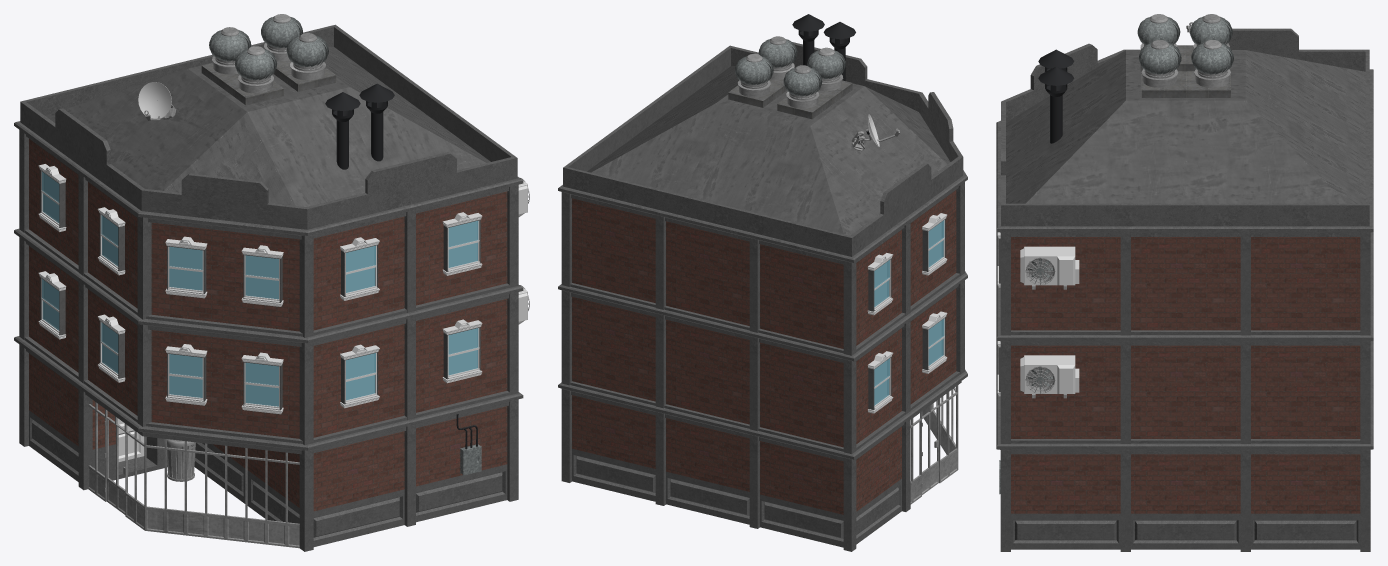
The model's file is Building_Small_DownTown8.obj.
The picture shows the model from 3 angles, left to right: view 1: azimuth 30°, elevation 25°; view 2: azimuth 150°, elevation 25°; view 3: azimuth 270°, elevation 25°; orthographic projection. The views are drawn at different scales.
Parts seen in each view (by area): view 1: Building_Small_DownTown8_Building_Small_DownTown8_Mesh_CementSmo, Building_Small_DownTown8_Building_Small_DownTown8_Mesh_BrownBric, Building_Small_DownTown8_Building_Small_DownTown8_Mesh_MetalPane, Building_Small_DownTown8_Building_Small_DownTown8_Mesh_EpoxyBloc, Building_Small_DownTown8_Building_Small_DownTown8_Mesh_Glass, Building_Small_DownTown8_Building_Small_DownTown8_Mesh_MetalSmoo, Building_Small_DownTown8_Building_Small_DownTown8_Mesh_MetalGava, Building_Small_DownTown8_Building_Small_DownTown8_Mesh_MetalPain, Building_Small_DownTown8_Building_Small_DownTown8_Mesh_CementPan; view 2: Building_Small_DownTown8_Building_Small_DownTown8_Mesh_BrownBric, Building_Small_DownTown8_Building_Small_DownTown8_Mesh_CementSmo, Building_Small_DownTown8_Building_Small_DownTown8_Mesh_MetalPane, Building_Small_DownTown8_Building_Small_DownTown8_Mesh_MetalSmoo, Building_Small_DownTown8_Building_Small_DownTown8_Mesh_EpoxyBloc, Building_Small_DownTown8_Building_Small_DownTown8_Mesh_MetalGava, Building_Small_DownTown8_Building_Small_DownTown8_Mesh_Glass, Building_Small_DownTown8_Building_Small_DownTown8_Mesh_CementPan, Building_Small_DownTown8_Building_Small_DownTown8_Mesh_MetalPain; view 3: Building_Small_DownTown8_Building_Small_DownTown8_Mesh_BrownBric, Building_Small_DownTown8_Building_Small_DownTown8_Mesh_CementSmo, Building_Small_DownTown8_Building_Small_DownTown8_Mesh_MetalPane, Building_Small_DownTown8_Building_Small_DownTown8_Mesh_MetalGava, Building_Small_DownTown8_Building_Small_DownTown8_Mesh_EpoxyBloc, Building_Small_DownTown8_Building_Small_DownTown8_Mesh_MetalSmoo, Building_Small_DownTown8_Building_Small_DownTown8_Mesh_CementPan, Building_Small_DownTown8_Building_Small_DownTown8_Mesh_MetalPain.
Part boxes in pixels (x1,y1,x2,y2): Building_Small_DownTown8_Building_Small_DownTown8_Mesh_CementSmo: (14, 24, 523, 551); Building_Small_DownTown8_Building_Small_DownTown8_Mesh_BrownBric: (29, 139, 507, 511); Building_Small_DownTown8_Building_Small_DownTown8_Mesh_MetalPane: (45, 46, 490, 206); Building_Small_DownTown8_Building_Small_DownTown8_Mesh_EpoxyBloc: (38, 82, 527, 461); Building_Small_DownTown8_Building_Small_DownTown8_Mesh_Glass: (42, 171, 478, 406); Building_Small_DownTown8_Building_Small_DownTown8_Mesh_MetalSmoo: (88, 14, 529, 548); Building_Small_DownTown8_Building_Small_DownTown8_Mesh_MetalGava: (209, 16, 481, 475); Building_Small_DownTown8_Building_Small_DownTown8_Mesh_MetalPain: (325, 83, 477, 449); Building_Small_DownTown8_Building_Small_DownTown8_Mesh_CementPan: (201, 60, 336, 105); Building_Small_DownTown8_Building_Small_DownTown8_Mesh_BrownBric: (572, 190, 956, 514); Building_Small_DownTown8_Building_Small_DownTown8_Mesh_CementSmo: (558, 41, 967, 551); Building_Small_DownTown8_Building_Small_DownTown8_Mesh_MetalPane: (587, 66, 950, 235); Building_Small_DownTown8_Building_Small_DownTown8_Mesh_MetalSmoo: (737, 36, 958, 504); Building_Small_DownTown8_Building_Small_DownTown8_Mesh_EpoxyBloc: (867, 114, 947, 413); Building_Small_DownTown8_Building_Small_DownTown8_Mesh_MetalGava: (735, 39, 845, 96); Building_Small_DownTown8_Building_Small_DownTown8_Mesh_Glass: (874, 220, 944, 405); Building_Small_DownTown8_Building_Small_DownTown8_Mesh_CementPan: (728, 79, 852, 119); Building_Small_DownTown8_Building_Small_DownTown8_Mesh_MetalPain: (792, 14, 869, 143); Building_Small_DownTown8_Building_Small_DownTown8_Mesh_BrownBric: (1011, 237, 1360, 513); Building_Small_DownTown8_Building_Small_DownTown8_Mesh_CementSmo: (996, 28, 1373, 551); Building_Small_DownTown8_Building_Small_DownTown8_Mesh_MetalPane: (1006, 50, 1365, 203); Building_Small_DownTown8_Building_Small_DownTown8_Mesh_MetalGava: (999, 16, 1233, 494); Building_Small_DownTown8_Building_Small_DownTown8_Mesh_EpoxyBloc: (997, 16, 1220, 396); Building_Small_DownTown8_Building_Small_DownTown8_Mesh_MetalSmoo: (1025, 14, 1230, 398); Building_Small_DownTown8_Building_Small_DownTown8_Mesh_CementPan: (1140, 45, 1230, 97); Building_Small_DownTown8_Building_Small_DownTown8_Mesh_MetalPain: (1038, 49, 1074, 143).
Bounding box in the file's own units: 10.09 × 12.26 × 9.44.
Materials: 9 (8 with a texture image).
